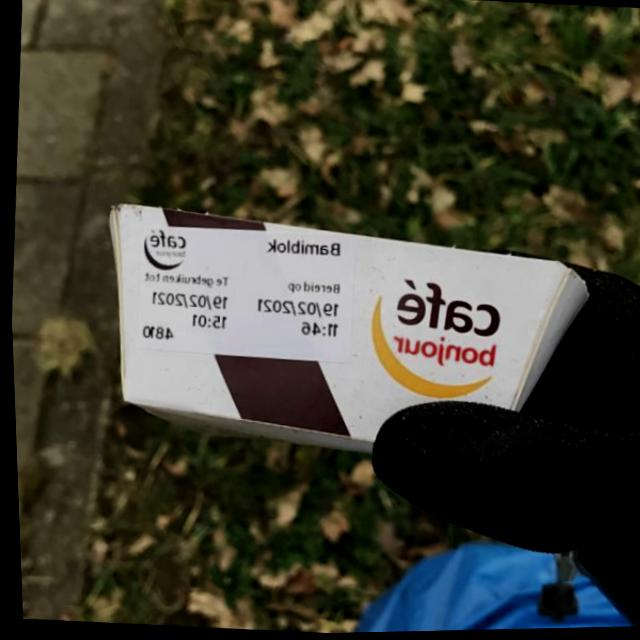Paper: (87, 188, 599, 478)
